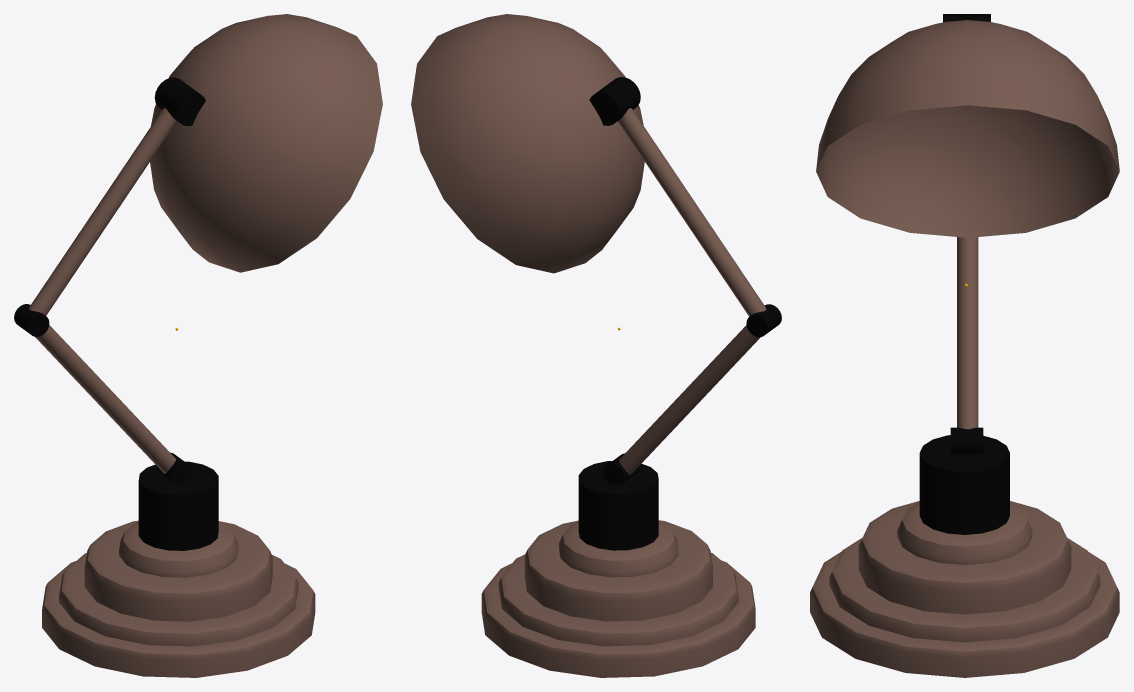
The model's file is office_light.glb.
The picture shows the model from 3 angles, left to right: view 1: azimuth 30°, elevation 25°; view 2: azimuth 150°, elevation 25°; view 3: azimuth 270°, elevation 25°; orthographic projection. The views are drawn at different scales.
Parts seen in each view (by area): view 1: pSphere1, pCylinder1, pCylinder2, pCylinder6, pCylinder3, pCylinder7, pCylinder5, pCylinder4; view 2: pSphere1, pCylinder1, pCylinder2, pCylinder6, pCylinder3, pCylinder7, pCylinder5; view 3: pSphere1, pCylinder1, pCylinder2, pCylinder3, pCylinder4.
Part boxes in pixels (box(x1,y1,x2,y2)): pSphere1: box(150, 14, 382, 272); pCylinder1: box(42, 520, 315, 677); pCylinder2: box(138, 461, 218, 550); pCylinder6: box(29, 108, 177, 315); pCylinder3: box(35, 325, 175, 473); pCylinder7: box(154, 77, 205, 125); pCylinder5: box(14, 304, 49, 336); pCylinder4: box(157, 452, 192, 484); pSphere1: box(411, 14, 644, 273); pCylinder1: box(481, 520, 755, 677); pCylinder2: box(578, 461, 658, 550); pCylinder6: box(617, 108, 766, 316); pCylinder3: box(619, 325, 760, 474); pCylinder7: box(589, 77, 640, 125); pCylinder5: box(746, 304, 781, 337); pSphere1: box(816, 20, 1119, 237); pCylinder1: box(810, 501, 1119, 677); pCylinder2: box(919, 435, 1009, 534); pCylinder3: box(957, 237, 978, 429); pCylinder4: box(950, 427, 983, 454).
Size of the model in its own units: 0.9553 by 1.54 by 0.6795.
